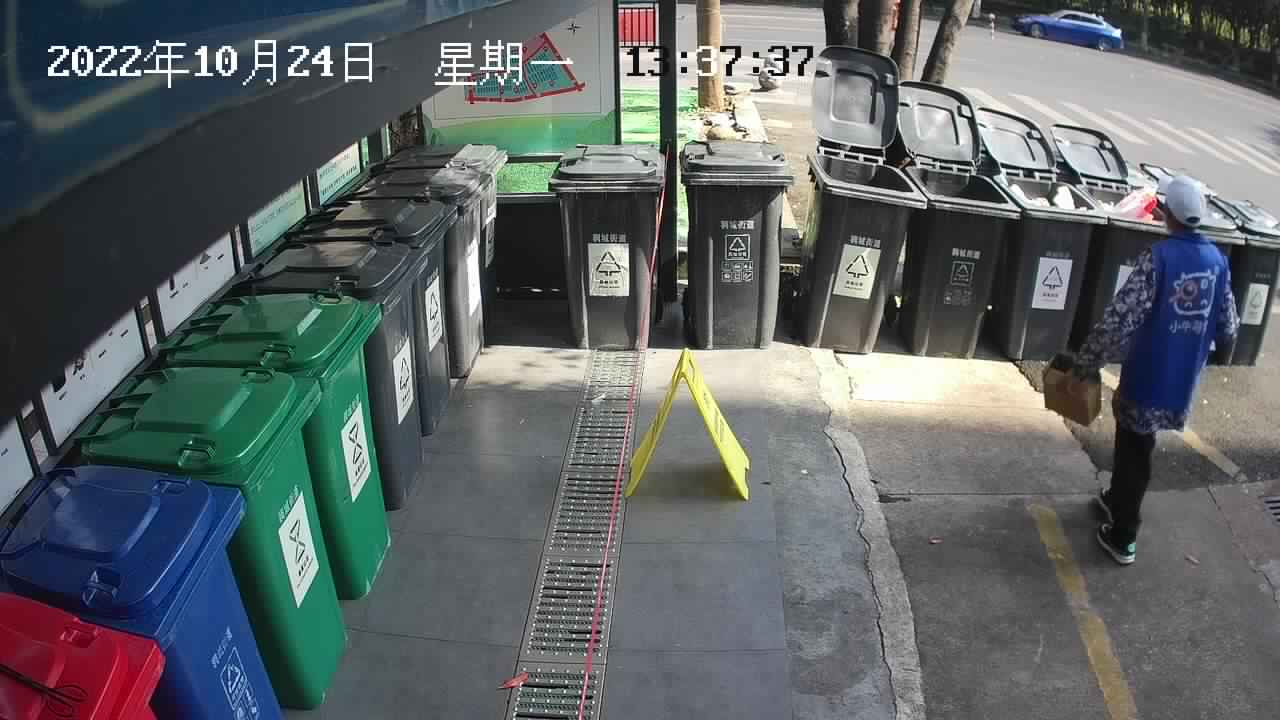worker: (1056, 169, 1245, 571)
zhizhipin: (1039, 347, 1106, 428)
